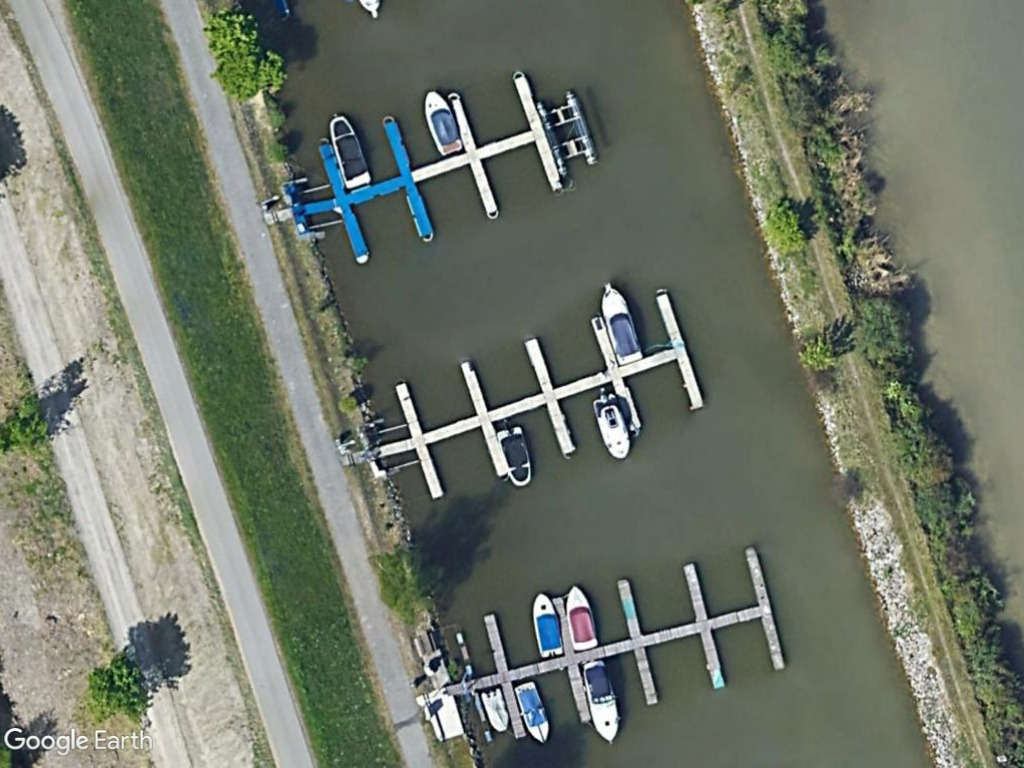boat: (600, 279, 643, 368), (580, 657, 623, 744), (422, 86, 465, 162), (492, 422, 536, 491), (592, 391, 633, 464), (526, 586, 565, 661), (512, 679, 553, 748), (561, 582, 599, 654), (480, 686, 513, 738)
